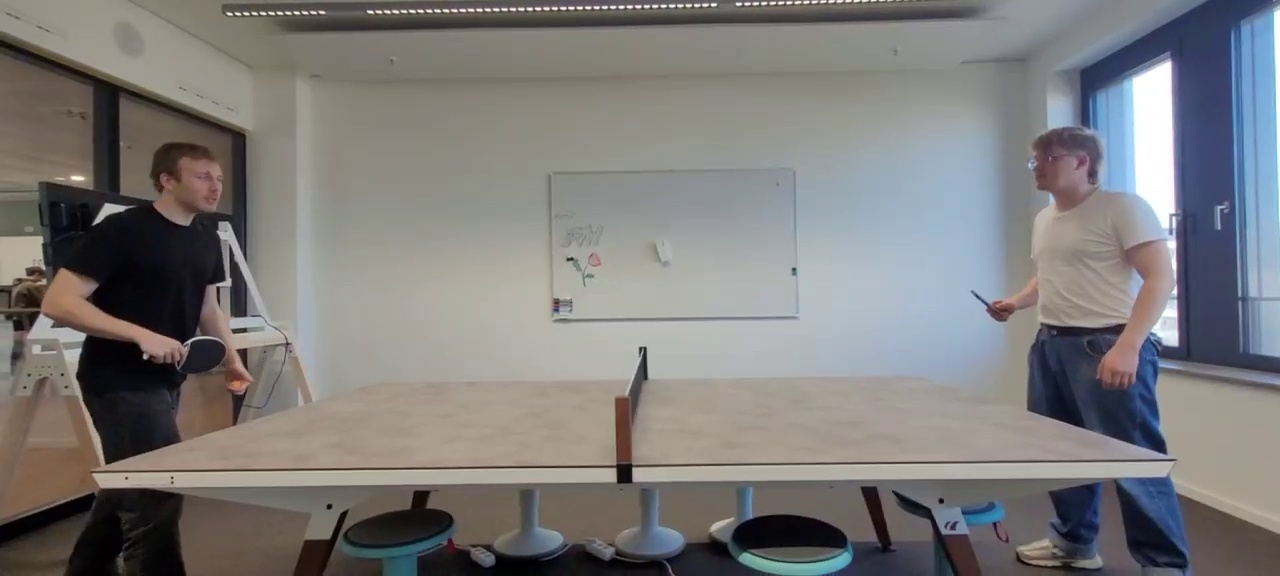plate: (89, 376, 1177, 472)
racket: (175, 336, 228, 374), (969, 289, 1004, 318)
ttball: (231, 381, 241, 388)
